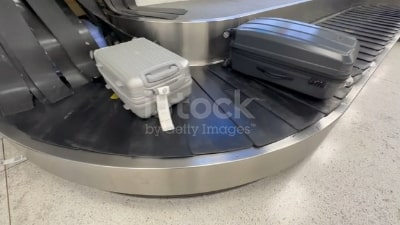baggage: (219, 16, 362, 101), (86, 36, 197, 136)
